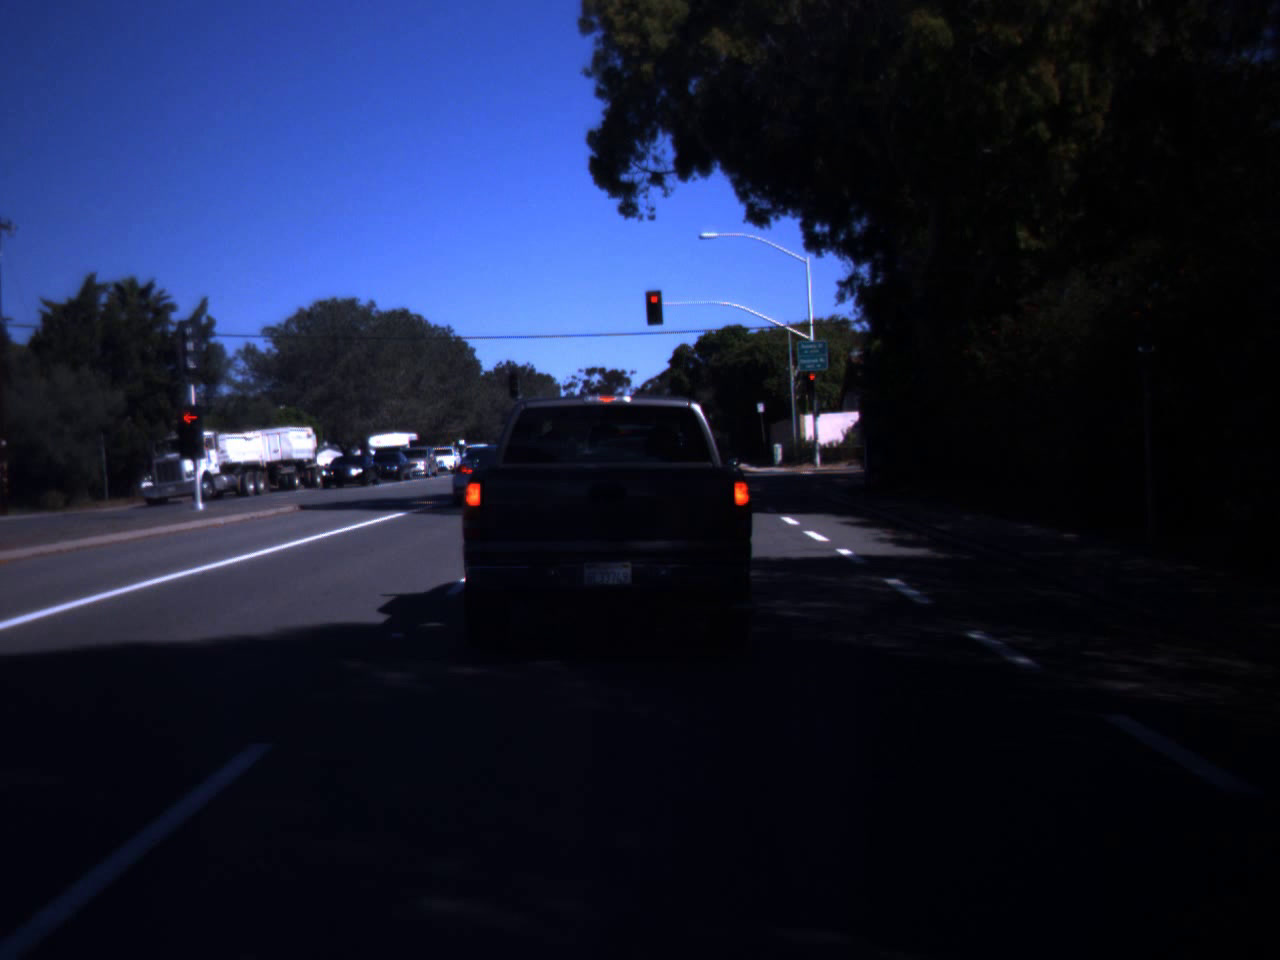stop: (172, 411, 208, 442), (647, 294, 662, 316), (806, 373, 818, 391)
